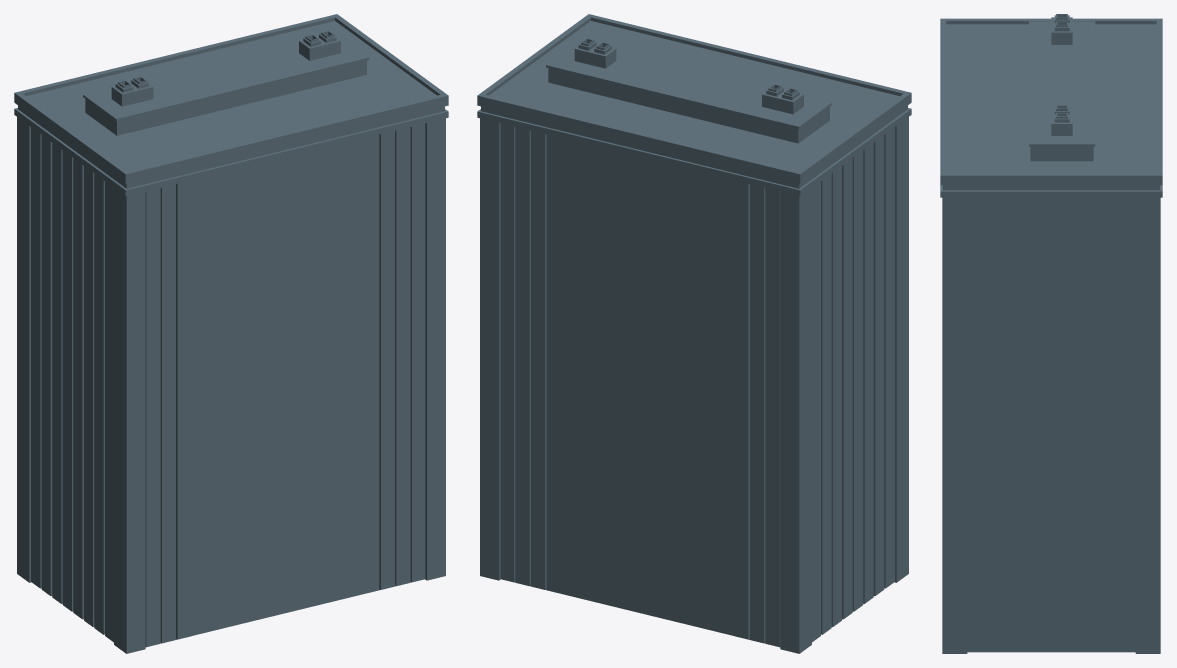
The model's file is bs_tower_a.fbx.
3 renders of one model, left to right at view 1: azimuth 30°, elevation 25°; view 2: azimuth 150°, elevation 25°; view 3: azimuth 270°, elevation 25°, orthographic.
Parts seen in each view (by area): view 1: bs_tower_a; view 2: bs_tower_a; view 3: bs_tower_a.
Boxes of the visible parts, bbox=[...] form: bs_tower_a: bbox=[14, 14, 448, 653]; bs_tower_a: bbox=[477, 14, 911, 653]; bs_tower_a: bbox=[940, 14, 1162, 653].
Bounding box in the file's own units: 1656 × 2769 × 4200.
